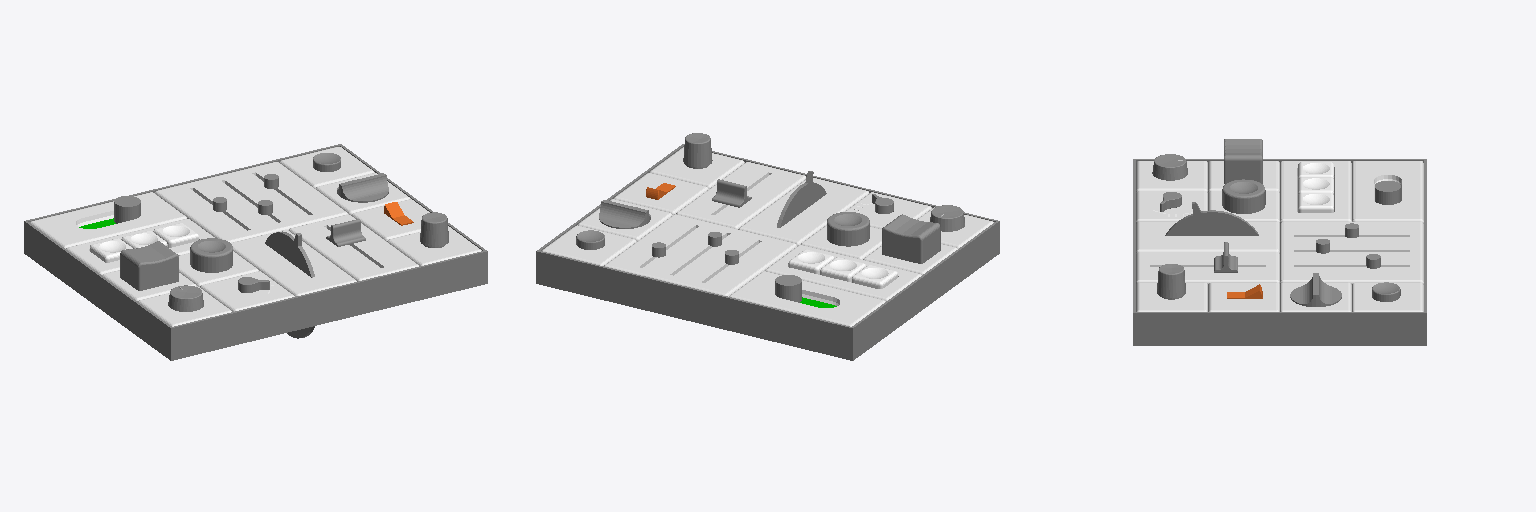
Rendered from UI Kit.obj.
3 views of the same model, side by side, from view 1: azimuth 30°, elevation 25°; view 2: azimuth 150°, elevation 25°; view 3: azimuth 270°, elevation 25° (orthographic).
Parts seen in each view (by area): view 1: Cube.1_4, Cube, Cube.1_2, Cube_5, Top_Left, Playlist, Cube.5_1, Cube.3_1, Cube.4, Cube.2_2, Cube.4_1, Top_Left_Bottom (+10 smaller); view 2: Cube.1_4, Cube, Cube.1_2, Cube_5, Top_Left, Playlist, Top_Left_Bottom, Cube.2_2, Cube.4, Cube.3_1, Cube.5_1, Cube.5 (+10 smaller); view 3: Cube.1_4, Cube, Top_Left, Cube.1_2, Cube_5, Top_Left_Bottom, Cube.2_2, Cylinder_1, Cube.4, Cube.3_1, Playlist, Cube.4_1 (+8 smaller).
Part boxes in pixels (x1,y1,x2,y2): Cube.1_4: (24,144,487,360); Cube: (155,162,347,242); Cube.1_2: (289,214,418,281); Cube_5: (231,230,356,296); Top_Left: (30,192,186,248); Playlist: (120,241,178,290); Cube.5_1: (200,271,294,311); Cube.3_1: (280,147,374,188); Cube.4: (387,226,481,265); Cube.2_2: (351,199,429,241); Cube.4_1: (138,286,231,326); Top_Left_Bottom: (66,219,214,274); Cube.1_4: (536,144,999,360); Cube: (604,214,796,296); Cube.1_2: (676,162,805,228); Cube_5: (738,178,868,245); Top_Left: (729,271,885,326); Playlist: (882,214,940,263); Top_Left_Bottom: (765,245,921,300); Cube.2_2: (614,173,708,214); Cube.4: (650,147,744,188); Cube.3_1: (542,225,636,265); Cube.5_1: (845,192,931,228); Cube.5: (578,199,672,240); Cube.1_4: (1133,159,1426,345); Cube: (1280,222,1423,284); Top_Left: (1352,161,1423,223); Cube.1_2: (1136,252,1279,283); Cube_5: (1136,221,1279,253); Top_Left_Bottom: (1280,161,1351,222); Cube.2_2: (1208,282,1279,311); Cylinder_1: (1165,210,1258,235); Cube.4: (1136,282,1207,311); Cube.3_1: (1352,282,1423,311); Playlist: (1224,139,1262,183); Cube.4_1: (1136,161,1207,192).
Bounding box in the file's own units: 254 × 82.25 × 204.